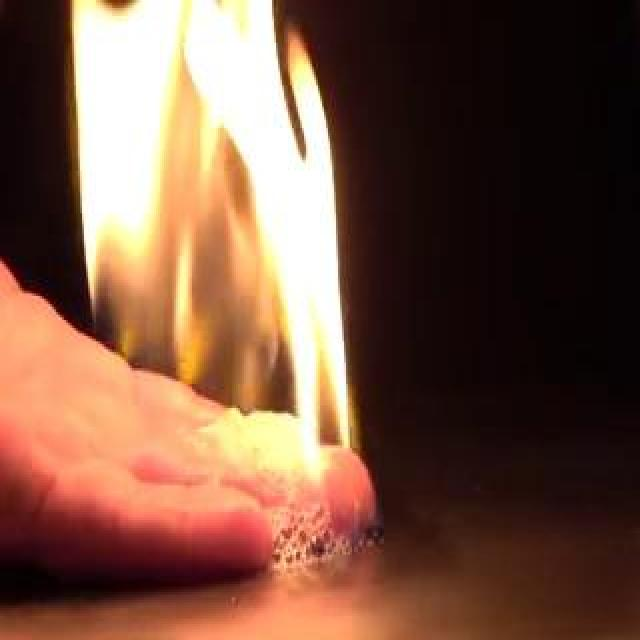Fire: (71, 3, 355, 517)
